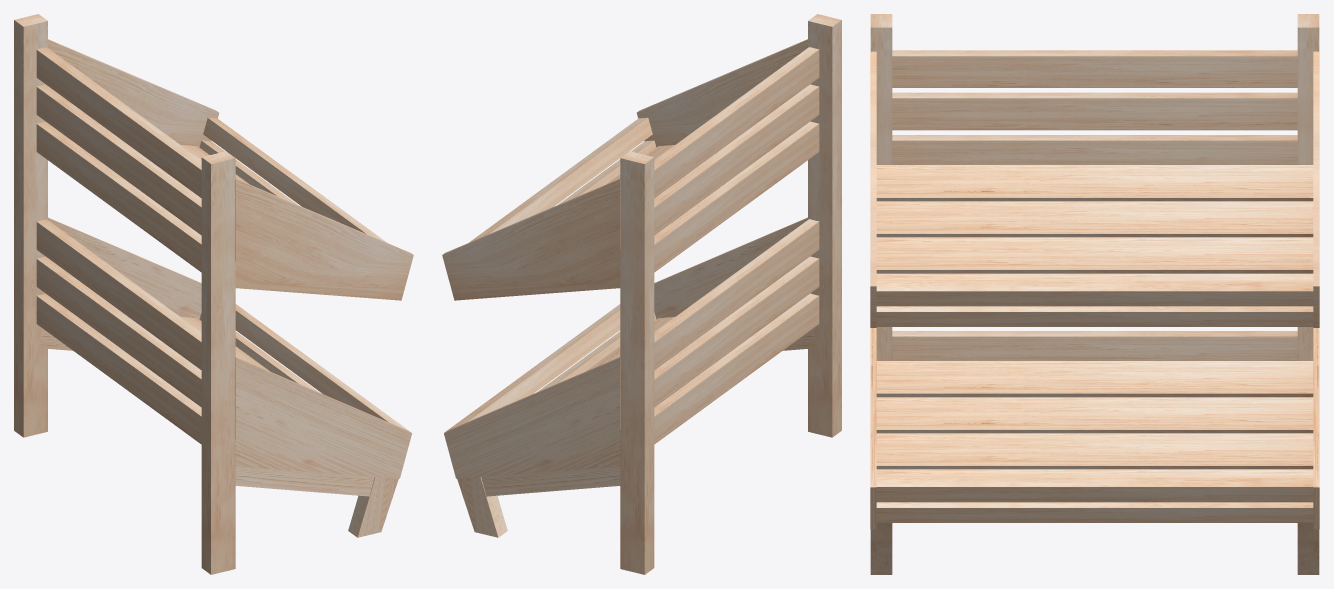
The model's file is SellShalf.fbx.
3 renders of one model, left to right at view 1: azimuth 30°, elevation 25°; view 2: azimuth 150°, elevation 25°; view 3: azimuth 270°, elevation 25°, orthographic. The views are drawn at different scales.
Visible parts, largest first — view 1: Cube.018, Plane.001, Plane, Cube.008, Cube.017, Cube.006, Cube.015, Cube.007, Cube.016, Cube.005, Cube.014, Cube.020 (+3 smaller); view 2: Cube.018, Plane.001, Plane, Cube.008, Cube.017, Cube.006, Cube.015, Cube.007, Cube.016, Cube.005, Cube.014, Cube.020 (+3 smaller); view 3: Cube.002, Cube, Cube.001, Cube.009, Cube.010, Cube.011, Cube.007, Cube.008, Cube.006, Cube.015, Cube.014, Cube.005 (+8 smaller).
Boxes of the visible parts, left/top/right/bottom form: Cube.018: left=14, top=14, right=235, bottom=574; Plane.001: left=48, top=39, right=413, bottom=300; Plane: left=48, top=217, right=411, bottom=478; Cube.008: left=36, top=47, right=201, bottom=197; Cube.017: left=36, top=219, right=201, bottom=369; Cube.006: left=36, top=121, right=201, bottom=272; Cube.015: left=36, top=293, right=201, bottom=444; Cube.007: left=36, top=84, right=201, bottom=235; Cube.016: left=36, top=256, right=201, bottom=407; Cube.005: left=203, top=117, right=386, bottom=242; Cube.014: left=235, top=304, right=411, bottom=432; Cube.020: left=37, top=329, right=374, bottom=496; Cube.018: left=620, top=14, right=841, bottom=574; Plane.001: left=442, top=39, right=807, bottom=300; Plane: left=444, top=217, right=807, bottom=478; Cube.008: left=654, top=47, right=819, bottom=197; Cube.017: left=654, top=219, right=819, bottom=369; Cube.006: left=654, top=121, right=819, bottom=272; Cube.015: left=654, top=293, right=819, bottom=444; Cube.007: left=654, top=84, right=819, bottom=235; Cube.016: left=654, top=256, right=819, bottom=407; Cube.005: left=469, top=117, right=652, bottom=242; Cube.014: left=444, top=304, right=620, bottom=432; Cube.020: left=481, top=329, right=818, bottom=496; Cube.002: left=876, top=237, right=1313, bottom=273; Cube: left=876, top=165, right=1313, bottom=201; Cube.001: left=876, top=201, right=1313, bottom=237; Cube.009: left=876, top=361, right=1313, bottom=397; Cube.010: left=876, top=397, right=1313, bottom=433; Cube.011: left=876, top=433, right=1313, bottom=469; Cube.007: left=892, top=92, right=1297, bottom=130; Cube.008: left=892, top=50, right=1297, bottom=87; Cube.006: left=892, top=135, right=1297, bottom=164; Cube.015: left=892, top=331, right=1297, bottom=360; Cube.014: left=870, top=478, right=1319, bottom=502; Cube.005: left=876, top=282, right=1313, bottom=306.
Size of the model in its own units: 252 by 487 by 424.
